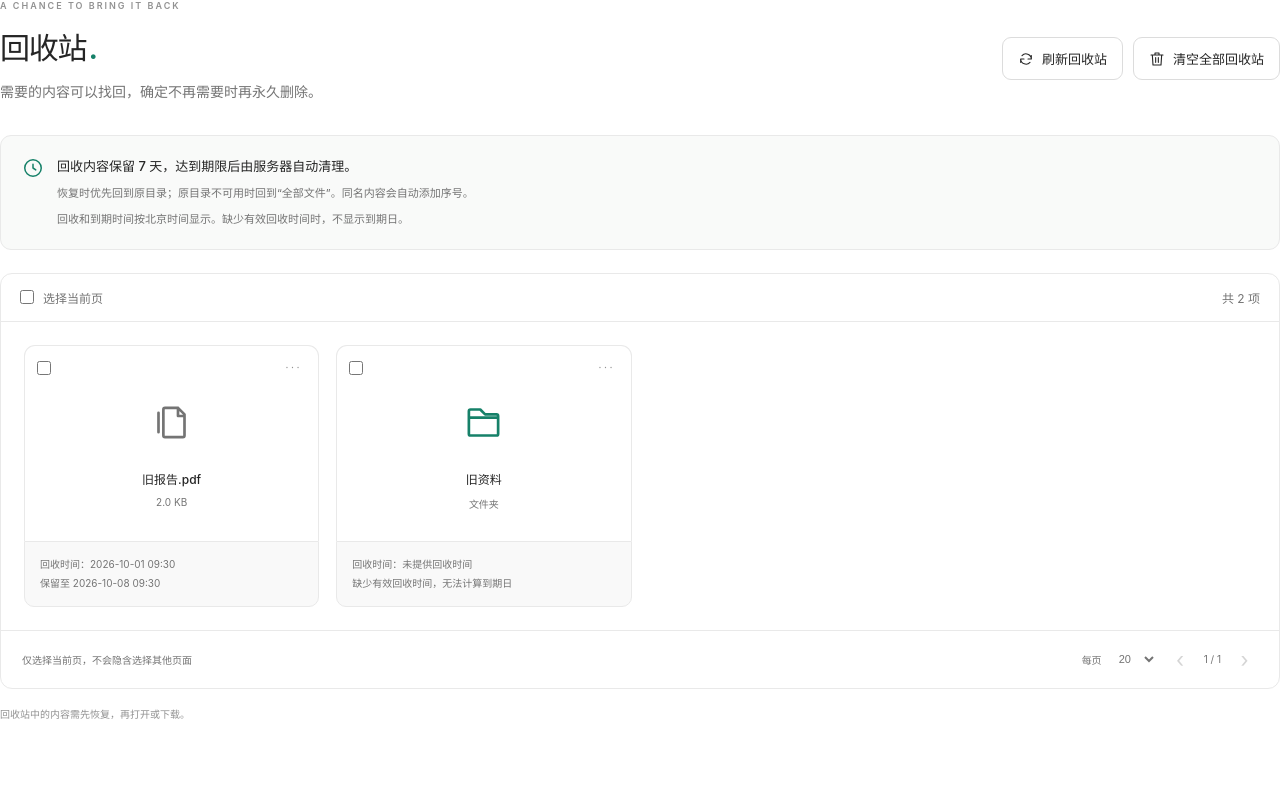
Scenario: 回收站界面 › 恢复明确原目录优先规则，仅服务成功后刷新列表和真实容量
What coordinates should you click on to do the following:
click the checkbox named "选择 旧报告.pdf"
I would click on:
 (44, 368)
Its box is [37,361,51,375].
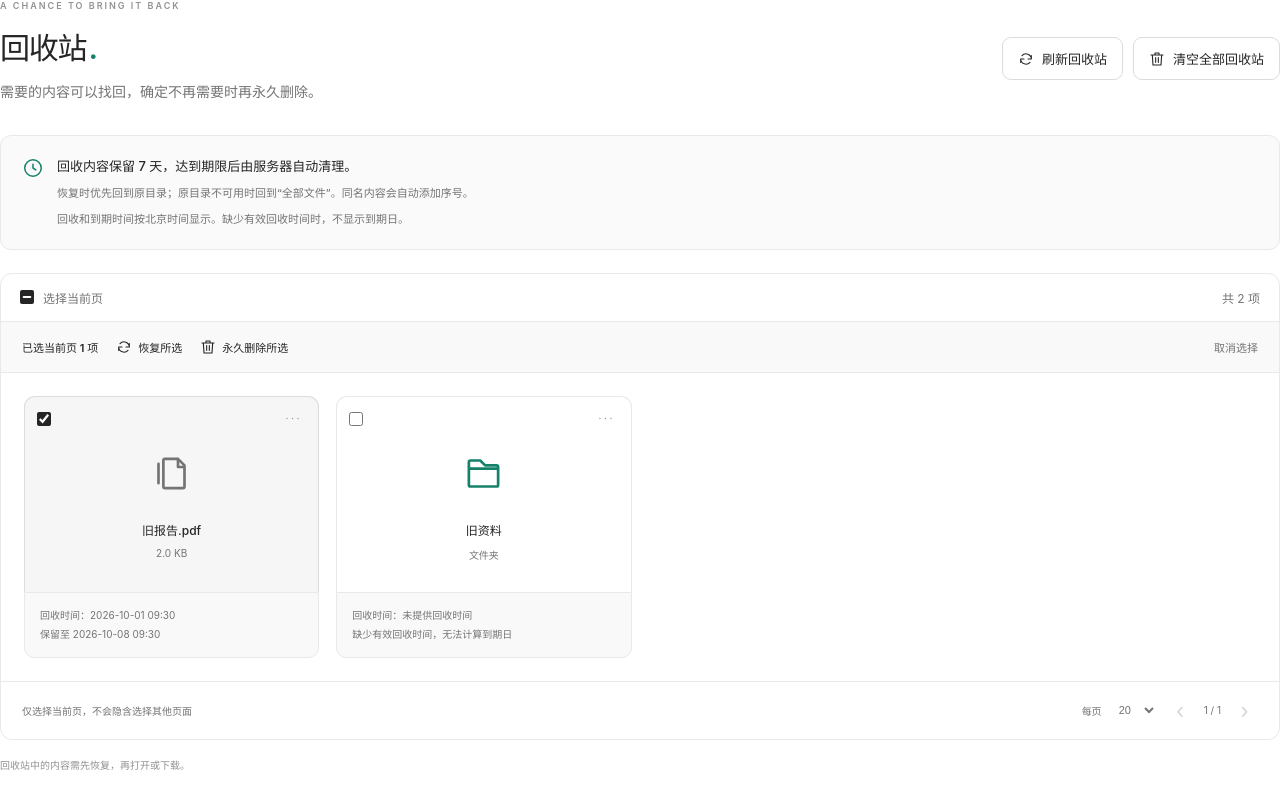
What coordinates should you click on to do the following:
click the button "恢复所选"
I would click on:
 (149, 347)
Its box is [116,334,182,360].
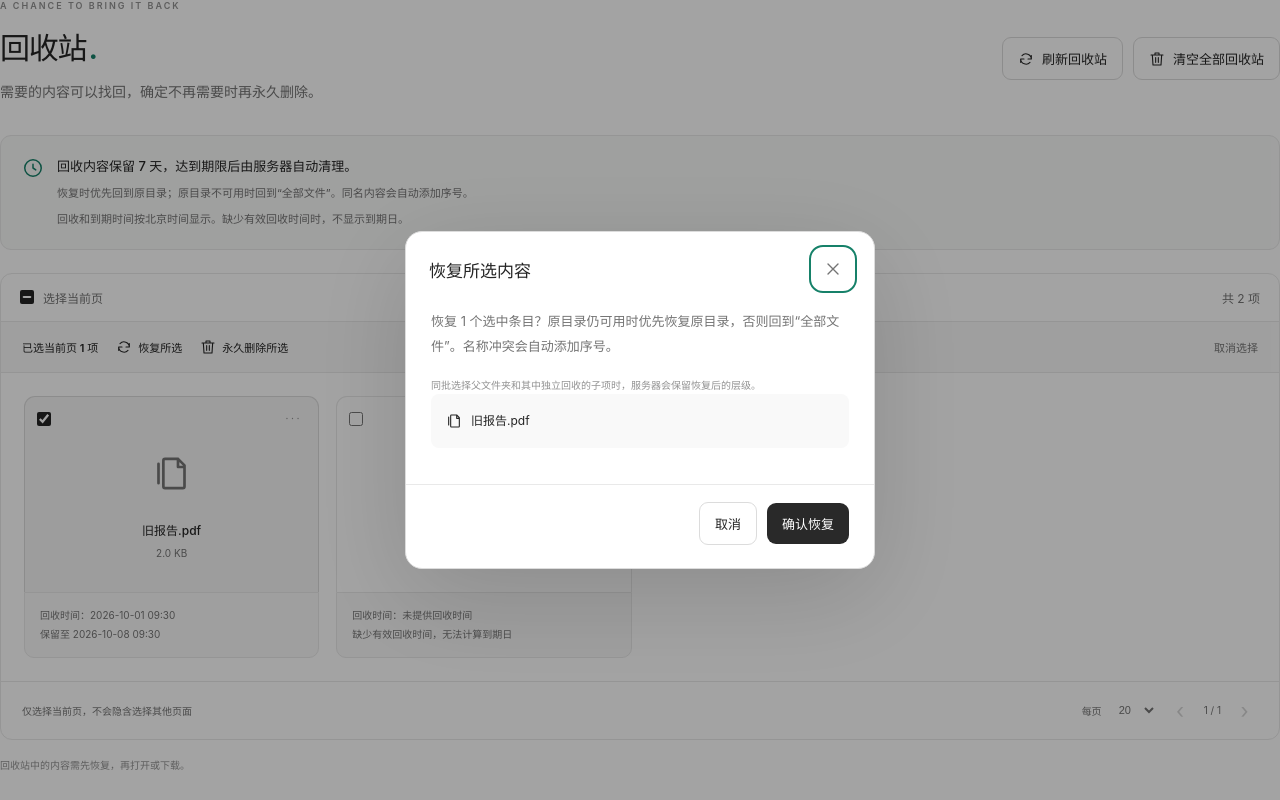
Now the dialog shows "优先恢复原目录", box [431,313,839,354]
Now the dialog shows "全部文件", box [431,313,839,354]
What coordinates should you click on to do the following:
click the button "确认恢复"
I would click on:
 (808, 523)
Its box is [767,503,849,544].
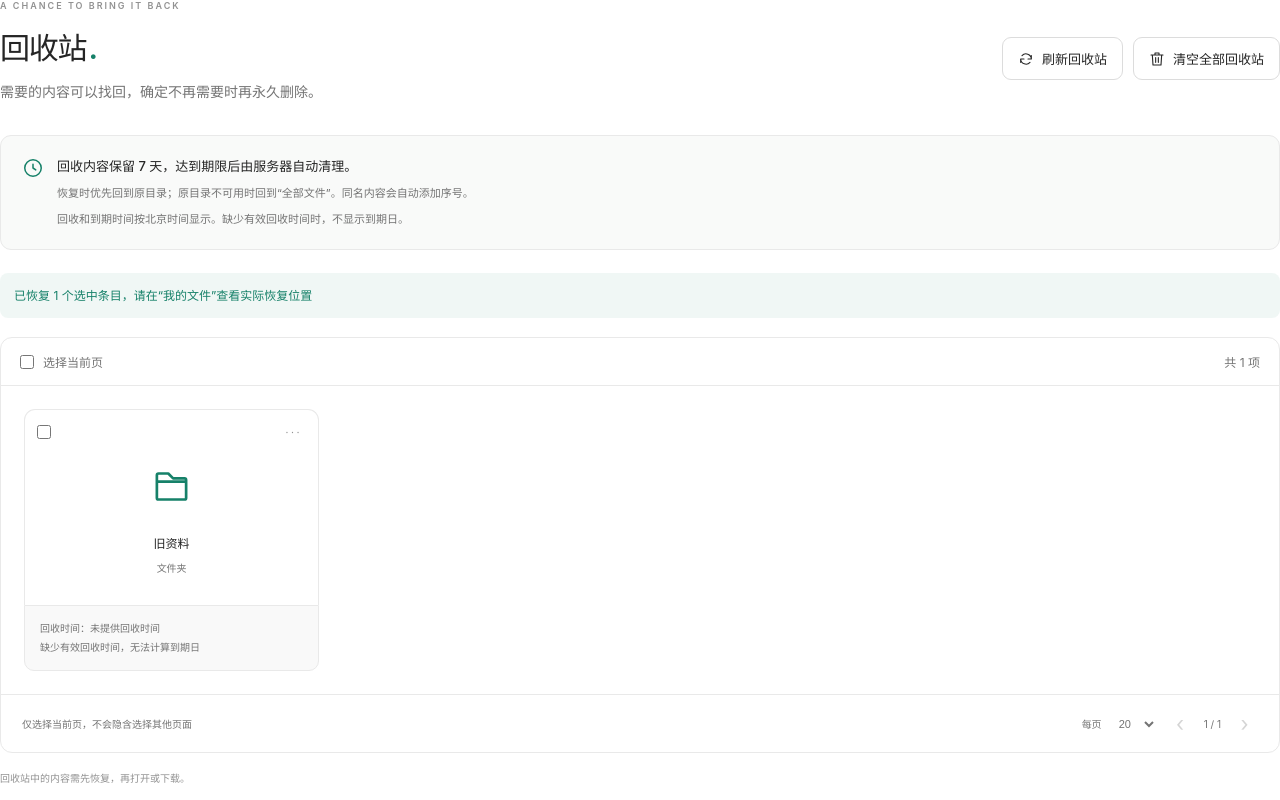
Now the message "已恢复 1 个选中条目，请在“我的文件”查看实际恢复位置" is shown, box [0,273,1279,318]
